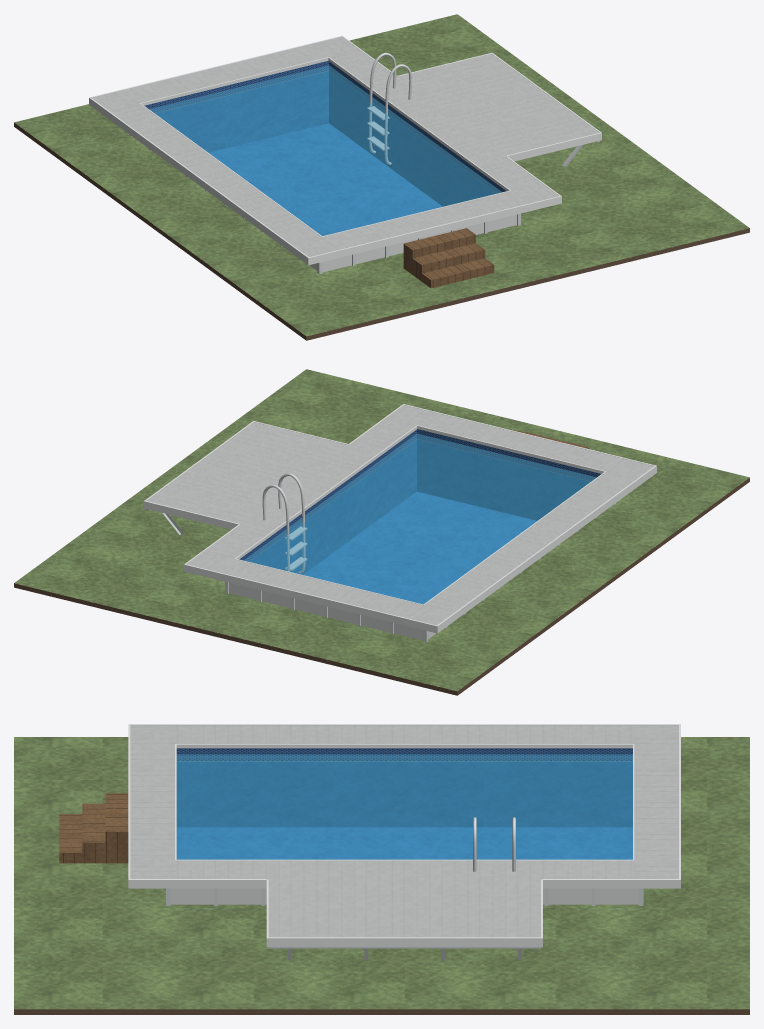
File: kayak-pool-12x20-white-t-rec-nofence.336dc87fd4.glb
3 renders of one model, top to bottom at view 1: azimuth 30°, elevation 25°; view 2: azimuth 150°, elevation 25°; view 3: azimuth 270°, elevation 25°, orthographic. The views are drawn at different scales.
Parts seen in each view (by area): view 1: ground, water, deck, liner_wall, liner_floor, fascia, steps, soil, wall, steel; view 2: ground, water, deck, liner_wall, liner_floor, fascia, soil, wall, steel; view 3: ground, water, deck, liner_wall, liner_floor, fascia, soil, steps, wall, stud, upright.
Boxes of the visible parts, x1,y1,x2,y2 form: ground: (14,14,749,336); water: (149,65,501,235); deck: (92,37,599,257); liner_wall: (144,61,506,206); liner_floor: (209,123,442,235); fascia: (89,35,601,265); steps: (403,228,494,288); soil: (14,122,749,340); wall: (309,214,516,272); steel: (367,52,411,164); ground: (14,369,749,691); water: (244,433,596,604); deck: (146,405,654,625); liner_wall: (239,429,601,574); liner_floor: (303,491,536,604); fascia: (143,404,656,633); soil: (14,477,749,695); wall: (229,582,435,640); steel: (262,473,307,573); ground: (14,737,749,1009); water: (176,754,632,859); deck: (130,725,678,937); liner_wall: (176,748,632,827); liner_floor: (176,827,632,859); fascia: (128,724,680,947); soil: (14,1009,749,1014); steps: (59,793,128,863); wall: (170,888,638,904); stud: (268,947,540,960); upright: (166,888,643,905).
Size of the model in its own units: 8.53 by 1.9 by 9.75.
Materials: 12 (5 with a texture image).
